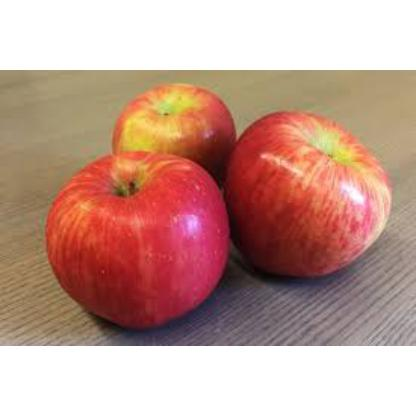apple: (54, 154, 218, 322), (230, 119, 392, 273), (114, 84, 238, 190)
